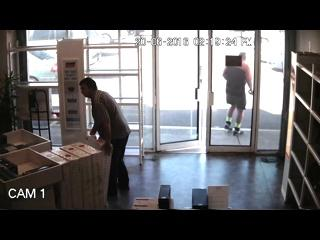Normal: (78, 77, 132, 196), (222, 52, 253, 136)
